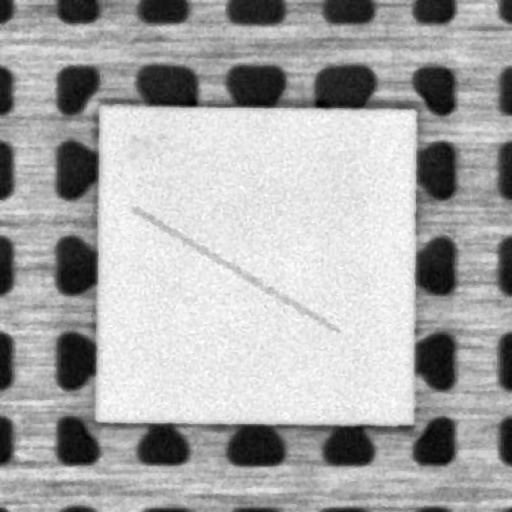DIE_CRACK: (132, 208, 336, 330)
